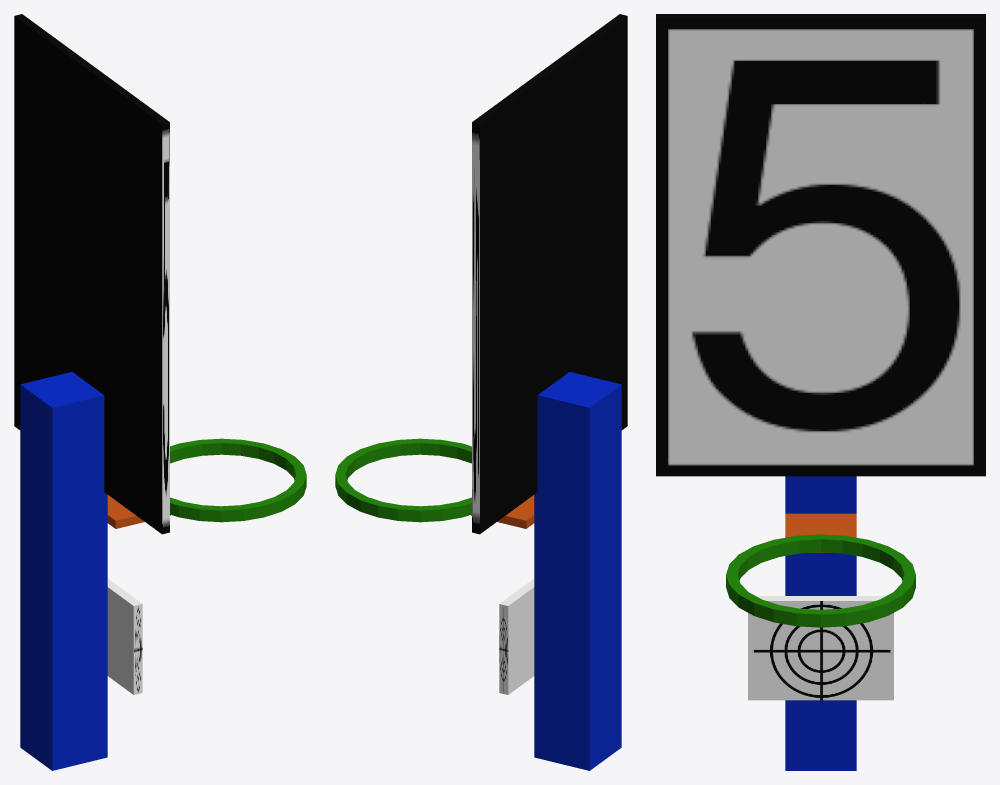
File: sick_robot_day_2014_target_station_complete_5.dae
3 renders of one model, left to right at view 1: azimuth 30°, elevation 25°; view 2: azimuth 150°, elevation 25°; view 3: azimuth 270°, elevation 25°, orthographic. The views are drawn at different scales.
Parts seen in each view (by area): view 1: Cube, Cube_003, Cylinder, Cube_001, Cube_004; view 2: Cube, Cube_003, Cylinder, Cube_001, Cube_004; view 3: Cube, Cube_001, Cube_003, Cylinder, Cube_004.
Part boxes in pixels (box(x1,y1,x2,y2)): Cube: box(14, 14, 169, 534); Cube_003: box(20, 372, 107, 770); Cylinder: box(170, 438, 306, 522); Cube_001: box(107, 578, 142, 694); Cube_004: box(107, 495, 170, 528); Cube: box(472, 14, 627, 534); Cube_003: box(534, 372, 621, 770); Cylinder: box(335, 438, 471, 522); Cube_001: box(499, 578, 534, 694); Cube_004: box(471, 495, 534, 528); Cube: box(656, 14, 985, 476); Cube_001: box(748, 596, 893, 700); Cube_003: box(785, 476, 856, 770); Cylinder: box(726, 534, 915, 627); Cube_004: box(785, 513, 856, 552).
Size of the model in its own units: 0.5801 by 0.5736 by 1.45.
Materials: 5 (2 with a texture image).
